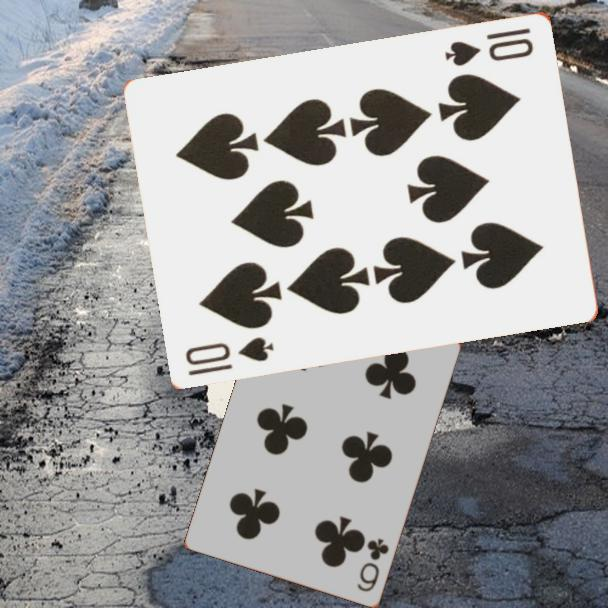c06: (354, 535, 392, 595)
s10: (182, 332, 277, 378), (441, 24, 537, 69)
